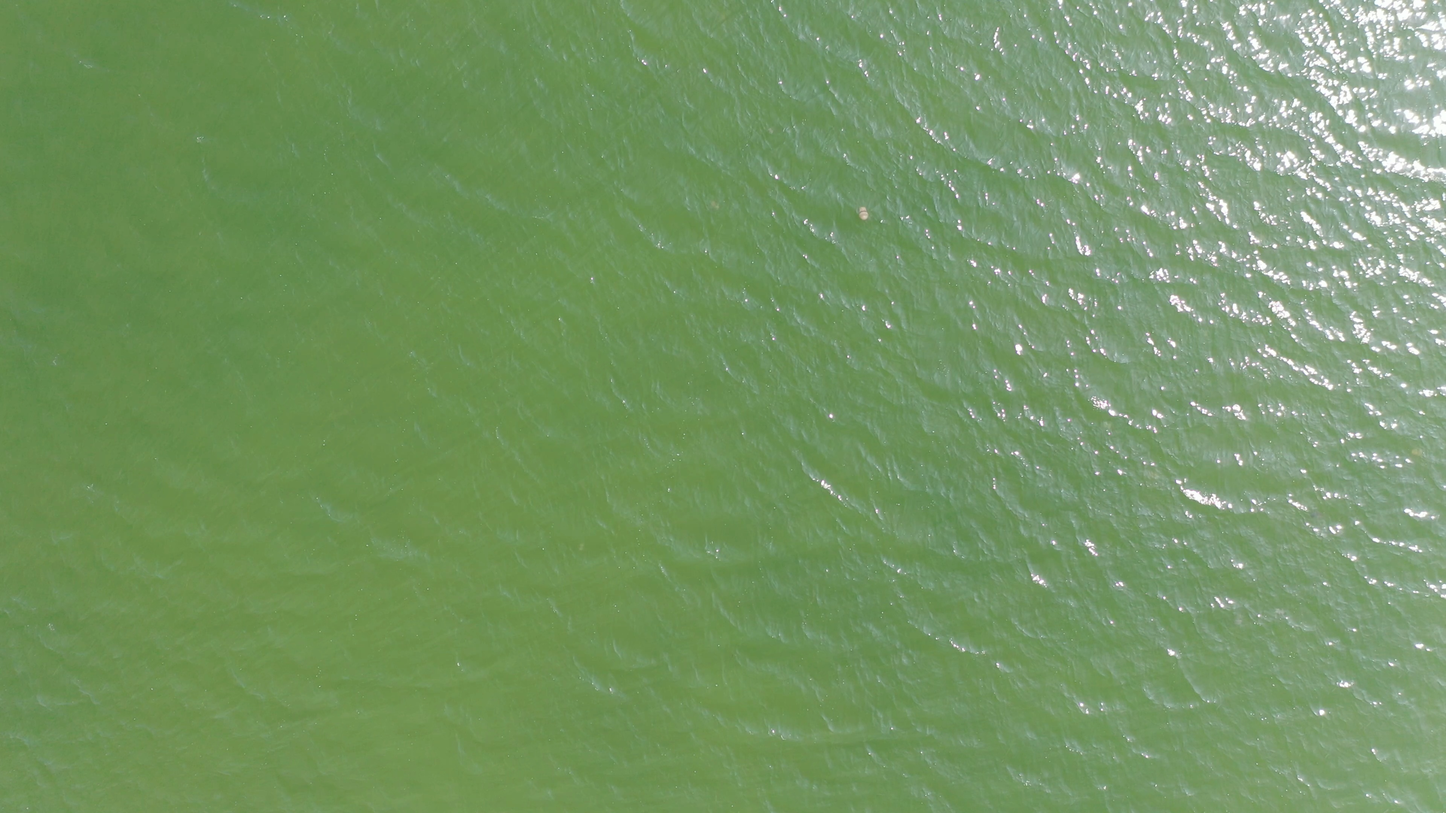meduse: (858, 207, 869, 220), (711, 200, 719, 210), (1104, 420, 1112, 429), (580, 543, 586, 551)
